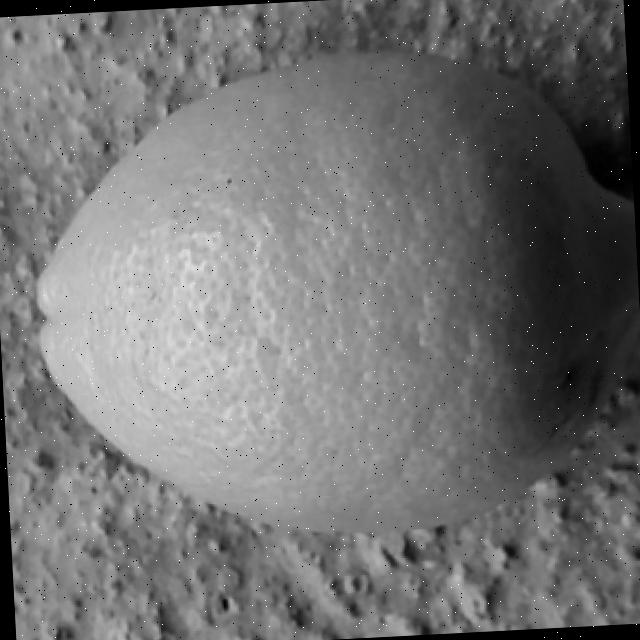Ripe: (18, 32, 640, 558)
